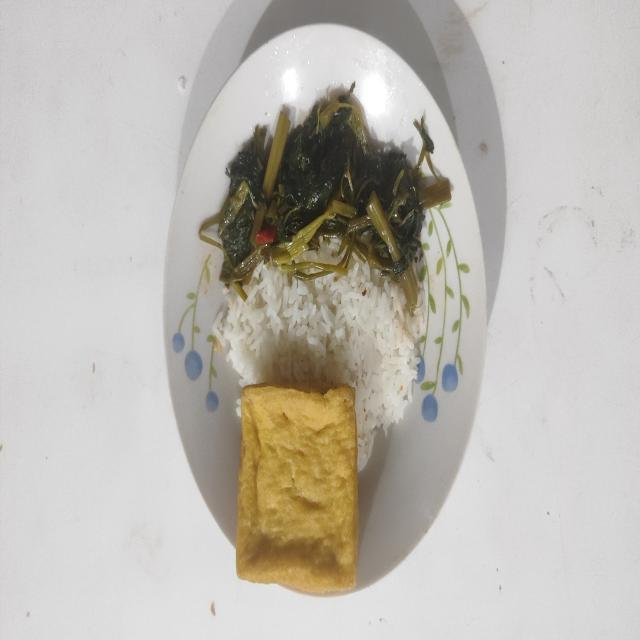nasi_putih: (212, 261, 424, 470)
tahu_goreng: (236, 384, 358, 594)
tumis_kangkung: (200, 83, 450, 314)
